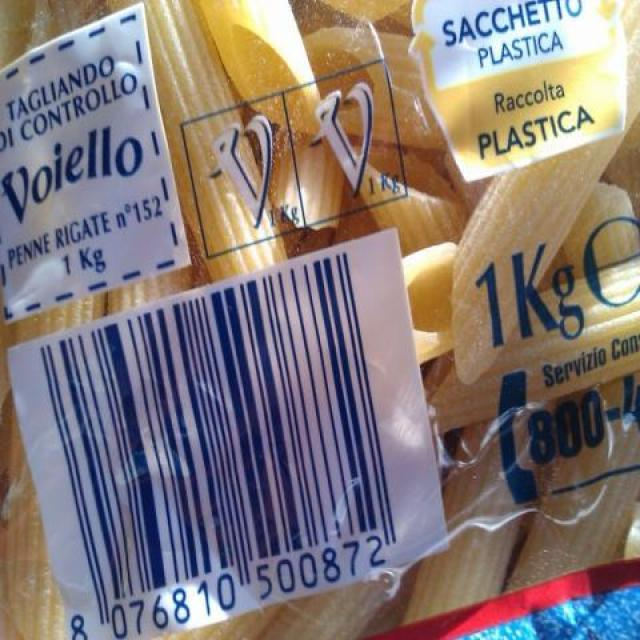Barcode: (5, 225, 447, 632)
